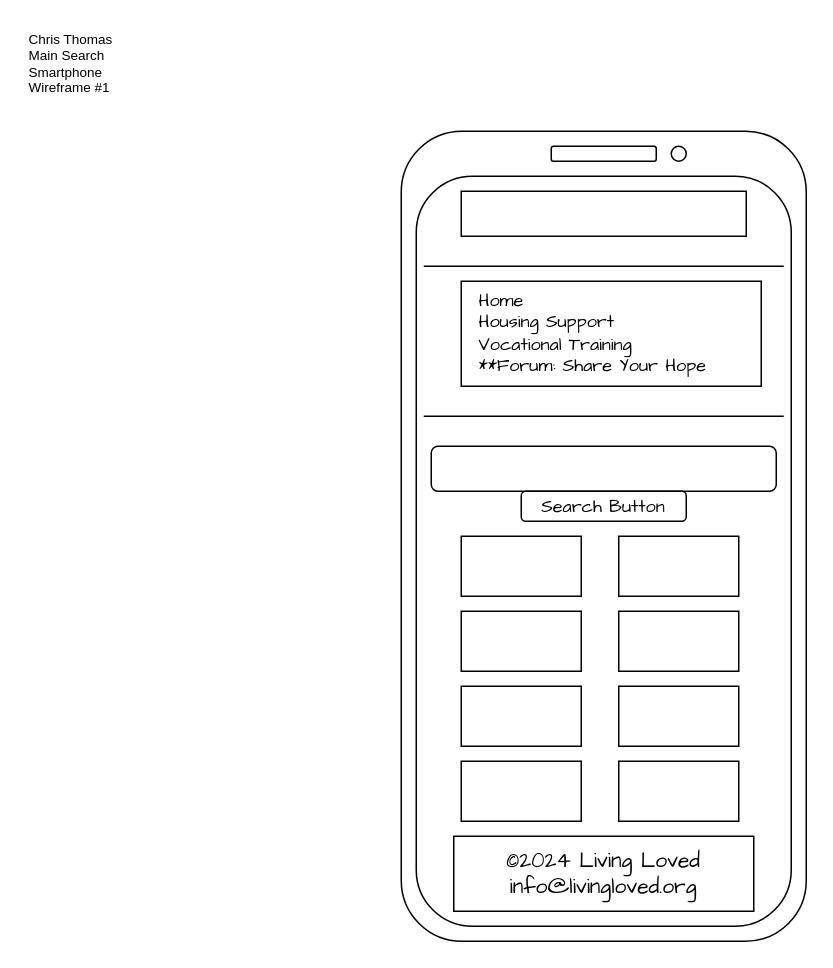
Some shapes in this 833 by 968 pixel diagram are drawn without their labels. The shapes that lost their labels are listed below. From the top down, each one's centre as x and y in pixels, then its label:
At point (603, 213): "Living Loved Aggregator".
At point (603, 468): "Search Box (Input Field)".
